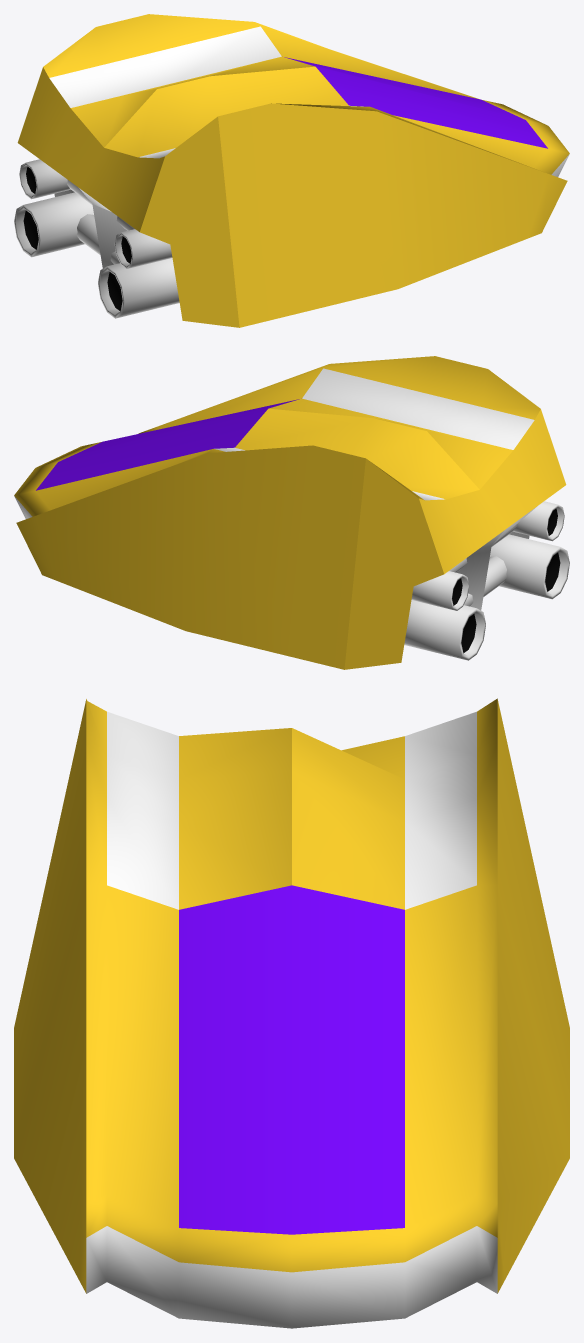
Rendered from bumper.glb.
3 renders of one model, top to bottom at view 1: azimuth 30°, elevation 25°; view 2: azimuth 150°, elevation 25°; view 3: azimuth 270°, elevation 25°, orthographic. The views are drawn at different scales.
Parts seen in each view (by area): view 1: Cube.001, Thruster.001, Thruster, Thruster.003, Thruster.002, Pipe.001; view 2: Cube.001, Thruster, Thruster.001, Thruster.002, Thruster.003, Pipe.001; view 3: Cube.001.
Boxes of the visible parts, x1,y1,x2,y2 form: Cube.001: (17, 14, 569, 327); Thruster.001: (98, 258, 179, 318); Thruster: (14, 192, 93, 257); Thruster.003: (114, 229, 172, 268); Thruster.002: (19, 159, 70, 199); Pipe.001: (77, 214, 119, 264); Cube.001: (14, 356, 566, 669); Thruster: (404, 600, 485, 660); Thruster.001: (490, 534, 569, 599); Thruster.002: (411, 571, 469, 610); Thruster.003: (513, 501, 564, 541); Pipe.001: (464, 556, 506, 606); Cube.001: (14, 698, 569, 1328).
Bounding box in the file's own units: 4.53 × 1.77 × 2.7.
